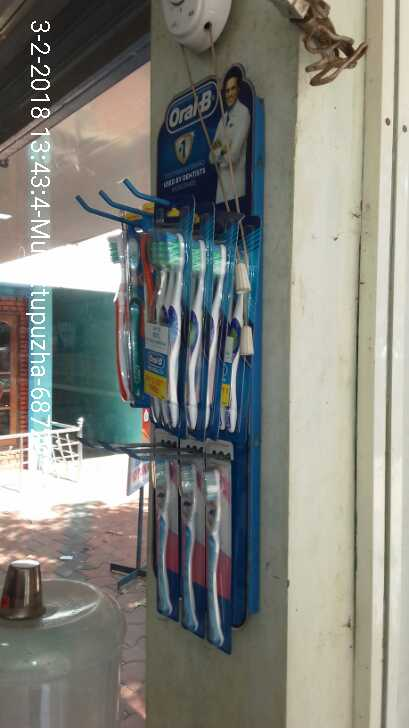oralb: (149, 226, 231, 432), (199, 461, 233, 654), (134, 465, 175, 620), (109, 231, 141, 404), (176, 462, 204, 636)
